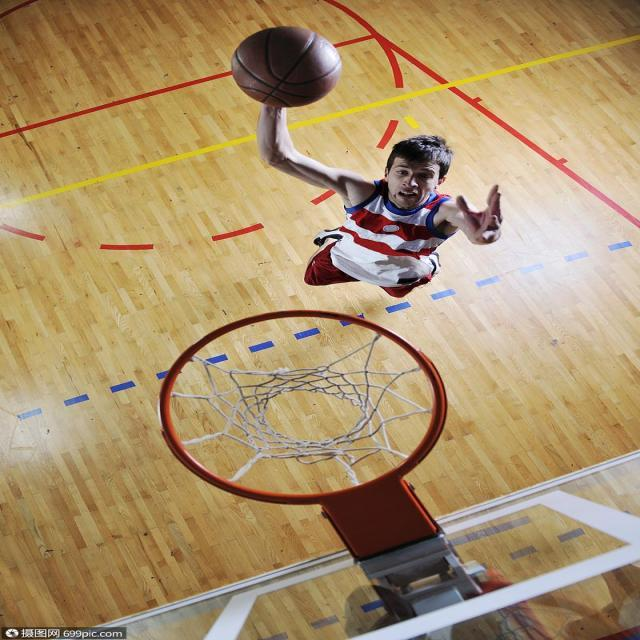rim: (229, 25, 340, 106)
